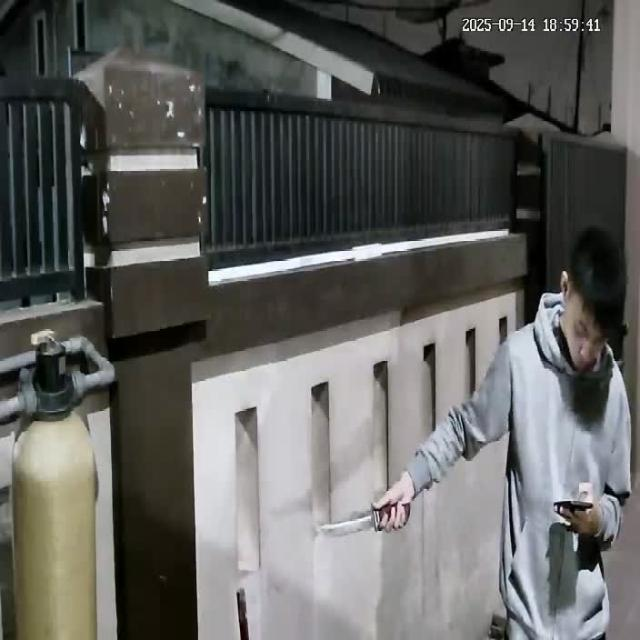senjata_tajam: (317, 502, 381, 536)
